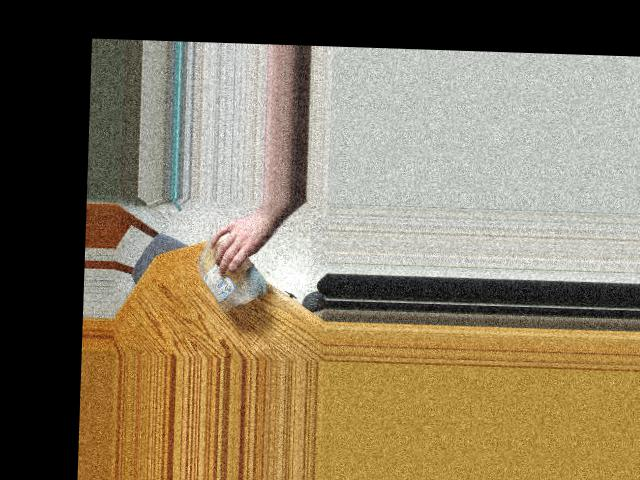cheese: (191, 227, 259, 314)
